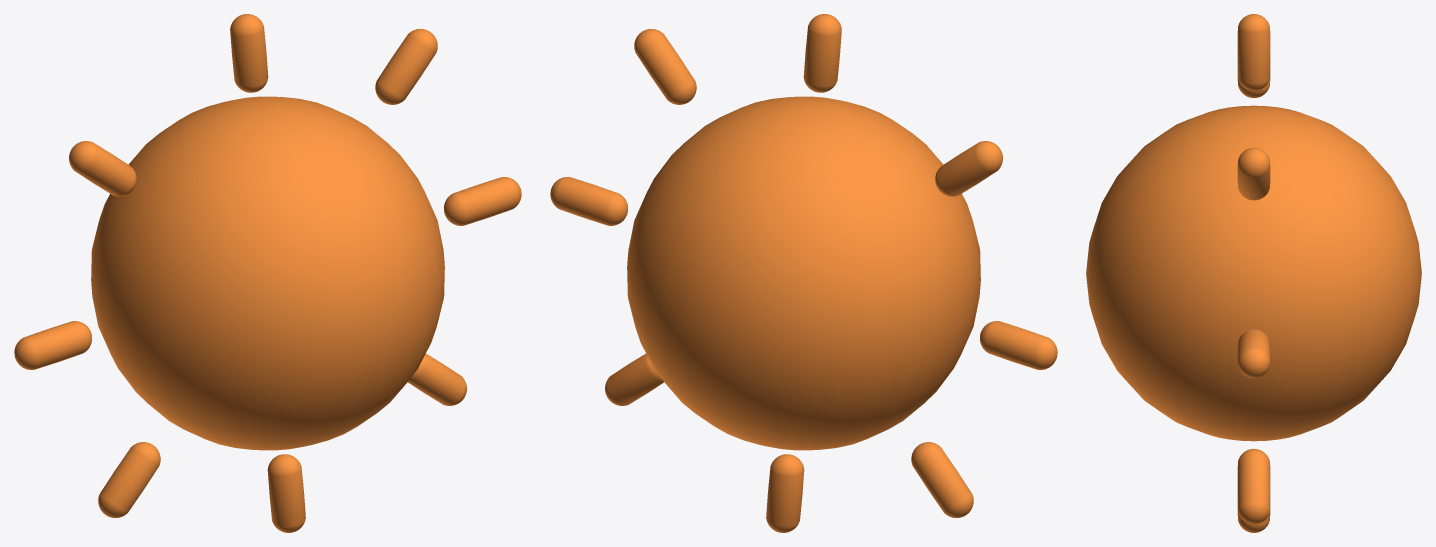
The model's file is clearSky.glb.
3 renders of one model, left to right at view 1: azimuth 30°, elevation 25°; view 2: azimuth 150°, elevation 25°; view 3: azimuth 270°, elevation 25°, orthographic. The views are drawn at different scales.
Parts seen in each view (by area): view 1: Sphere.001; view 2: Sphere.001; view 3: Sphere.001.
Boxes of the visible parts, x1,y1,x2,y2 form: Sphere.001: (14,14,521,532); Sphere.001: (550,14,1057,532); Sphere.001: (1086,14,1421,532).
Size of the model in its own units: 4.96 by 4.96 by 3.04.
